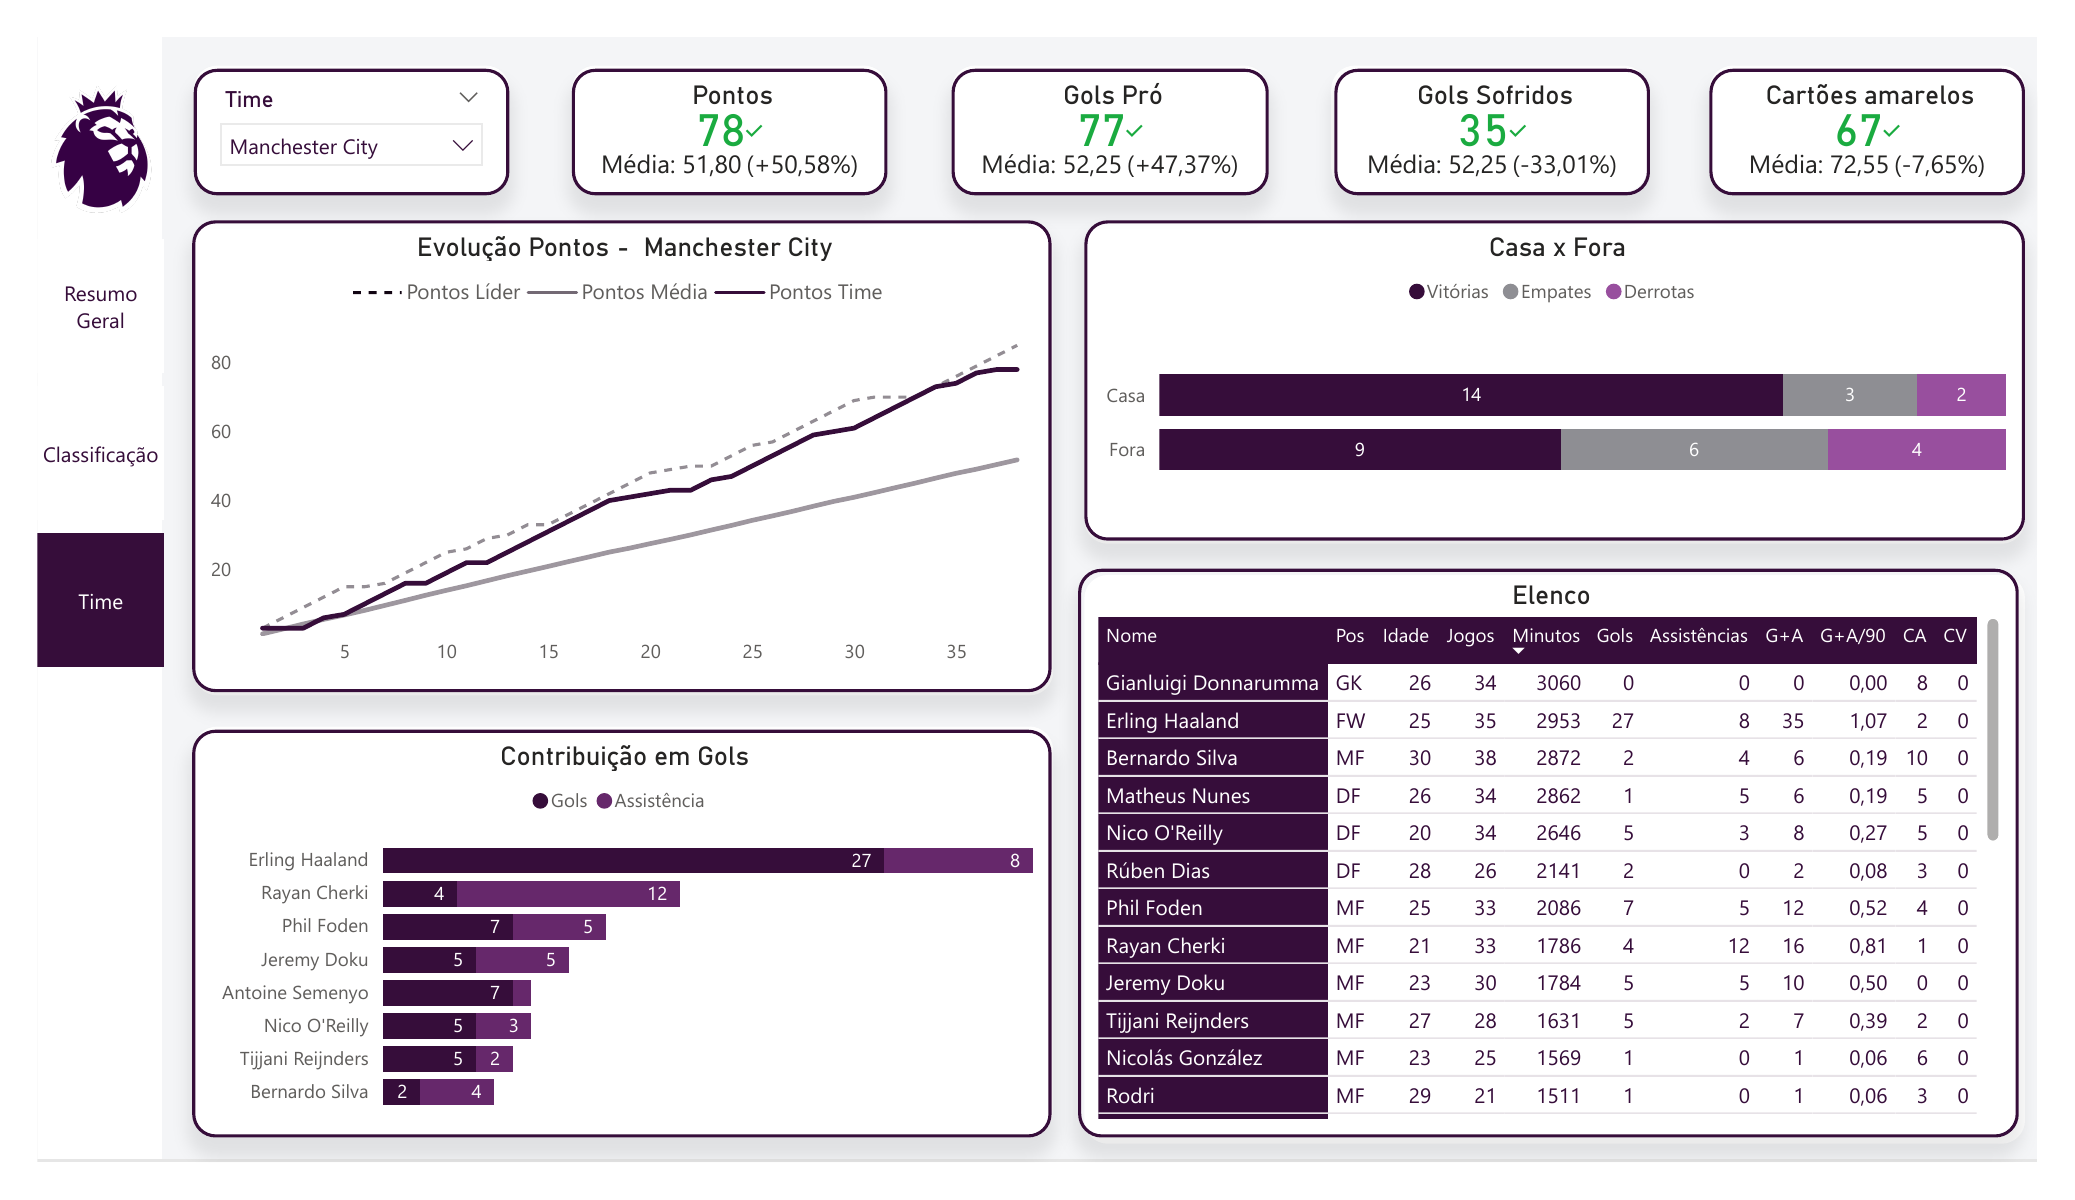

This screenshot's page, from the dashboard's own definition file:
{"tool":"powerbi","page":{"name":"Time","canvas":[1280,720],"ordinal":2},"visuals":[{"type":"image","box":[0,0,80.7,142.8],"z":0},{"type":"pageNavigator","box":[0,128.9,81.1,275.6],"z":1000},{"type":"slicer","fields":{"Values":["Times.squad"]},"box":[100,20,202.2,81.1],"z":2000},{"type":"kpi","title":"Pontos","fields":{"TrendLine":["Partidas.round"],"Goal":["_Medidas.Pontos Média Liga"],"Indicator":["Sum(Classificação.pts)"]},"box":[341.9,20,202.4,81.4],"z":3000},{"type":"kpi","title":"Gols Pró","fields":{"TrendLine":["Partidas.round"],"Goal":["_Medidas.Gols Pró Média Liga"],"Indicator":["Sum(Classificação.gf)"]},"box":[585.2,20,202.4,81],"z":4000},{"type":"kpi","title":"Gols Sofridos","fields":{"TrendLine":["Partidas.round"],"Goal":["_Medidas.Gols Contra Média Liga"],"Indicator":["Sum(Classificação.ga)"]},"box":[830,20,202.4,81],"z":5000},{"type":"lineChart","fields":{"Y":["_Medidas.Pontos Acumulados Líder","_Medidas.Pontos Acumulados Média","_Medidas.Pontos Acumulados Time"],"Category":["Rodadas.Rodada"]},"box":[98.9,116.7,550,302.2],"z":6000},{"type":"hundredPercentStackedBarChart","title":"Casa x Fora","fields":{"Y":["_Medidas.Vitórias Time","_Medidas.Empates Time","_Medidas.Derrtotas Time"],"Category":["Local.Local"]},"box":[670.5,116.7,601.9,205.7],"z":7000},{"type":"tableEx","title":"Elenco","fields":{"Values":["Jogadores.name","Jogadores.pos","Jogadores.age","Sum(Estatísticas dos Jogadores.matches_played)","Sum(Estatísticas dos Jogadores.minutes_played)","Sum(Estatísticas dos Jogadores.goals)","Sum(Estatísticas dos Jogadores.assists)","Sum(Estatísticas dos Jogadores.goals_assists)","Sum(Estatísticas dos Jogadores.goals_assists_per_90)","Sum(Estatísticas dos Jogadores.cards_yellow)","Sum(Estatísticas dos Jogadores.cards_red)"]},"box":[665.6,340,602,364.4],"z":8000},{"type":"barChart","title":"Contribuição em Gols","fields":{"Category":["Jogadores.name"],"Y":["Sum(Estatísticas dos Jogadores.goals)","Sum(Estatísticas dos Jogadores.assists)"]},"box":[98.9,443.3,550,261.1],"z":9000},{"type":"kpi","title":"Cartões amarelos","fields":{"TrendLine":["Partidas.round"],"Indicator":["_Medidas.Amarelos Time"],"Goal":["_Medidas.Amarelos Média Geral"]},"box":[1070,20,202.4,81],"z":10000}]}

Visuals, with their boxes on the page's 1280x720 design canvas (x1, y1, x2, y2). These are canvas units, not pixel positions in the 2075x1200 screenshot, which may show the page scaled, cropped or inside an application window:
image: 0/0/81/143
pageNavigator: 0/129/81/404
slicer - Times.squad: 100/20/302/101
"Pontos" kpi: 342/20/544/101
"Gols Pró" kpi: 585/20/788/101
"Gols Sofridos" kpi: 830/20/1032/101
lineChart - _Medidas.Pontos Acumulados Líder x _Medidas.Pontos Acumulados Média: 99/117/649/419
"Casa x Fora" hundredPercentStackedBarChart: 670/117/1272/322
"Elenco" tableEx: 666/340/1268/704
"Contribuição em Gols" barChart: 99/443/649/704
"Cartões amarelos" kpi: 1070/20/1272/101
